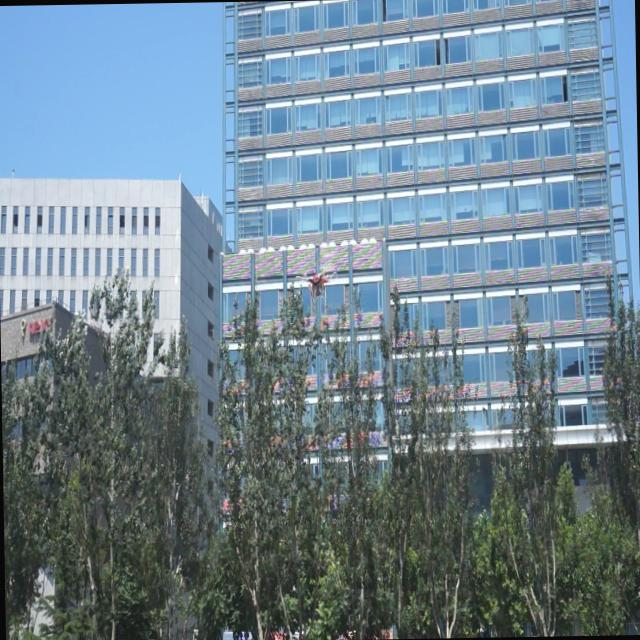drone: (301, 258, 337, 306)
